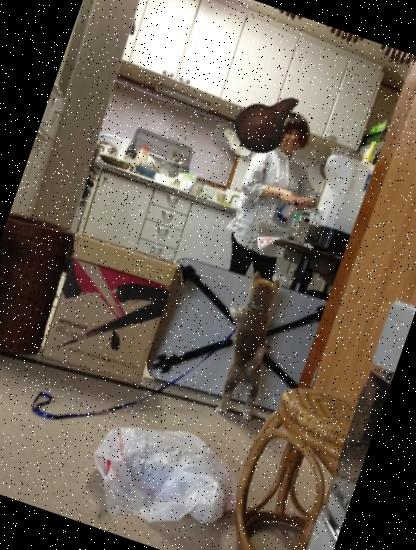Pear: (221, 74, 316, 170)
